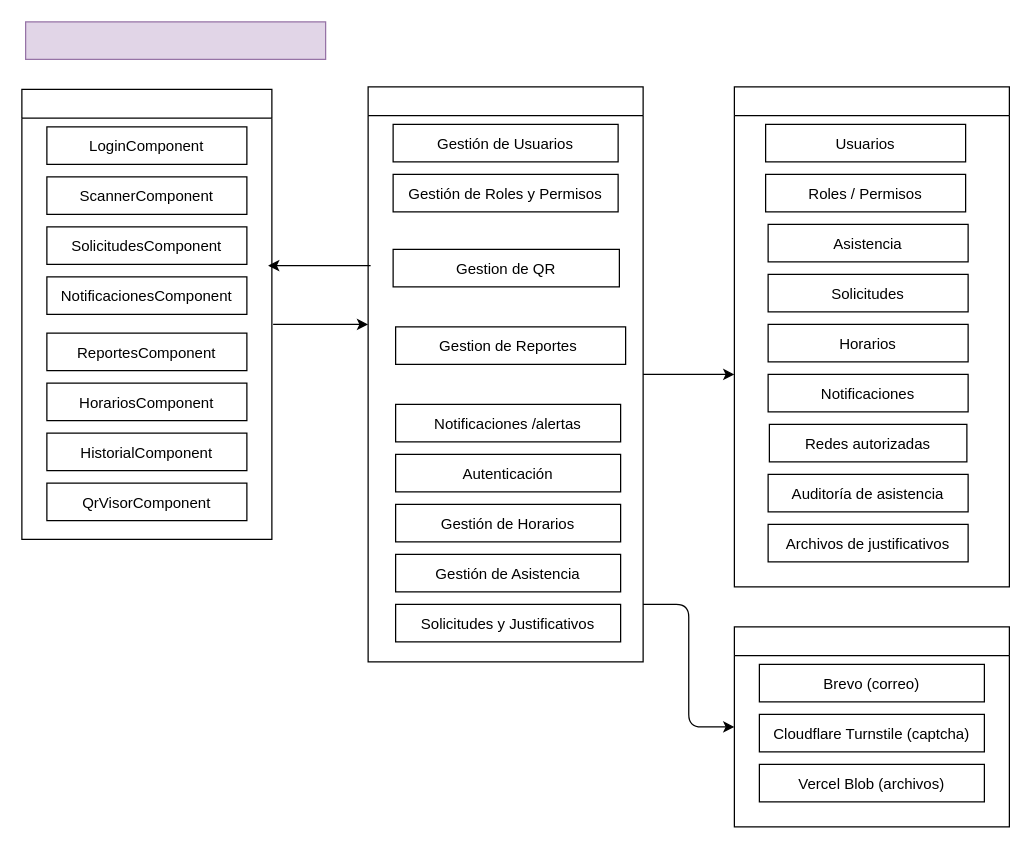
This 1031x849 diagram has some shape labels left out. Each missing label, with the box of its shape:
Backend (Node js Express API): (367, 86, 643, 662)
Base de Datos (MariaDB): (733, 86, 1009, 587)
Diagrama de Componentes: (24, 21, 326, 59)
Frontend (Angular): (21, 88, 272, 539)
Servicios externos: (733, 626, 1009, 827)
